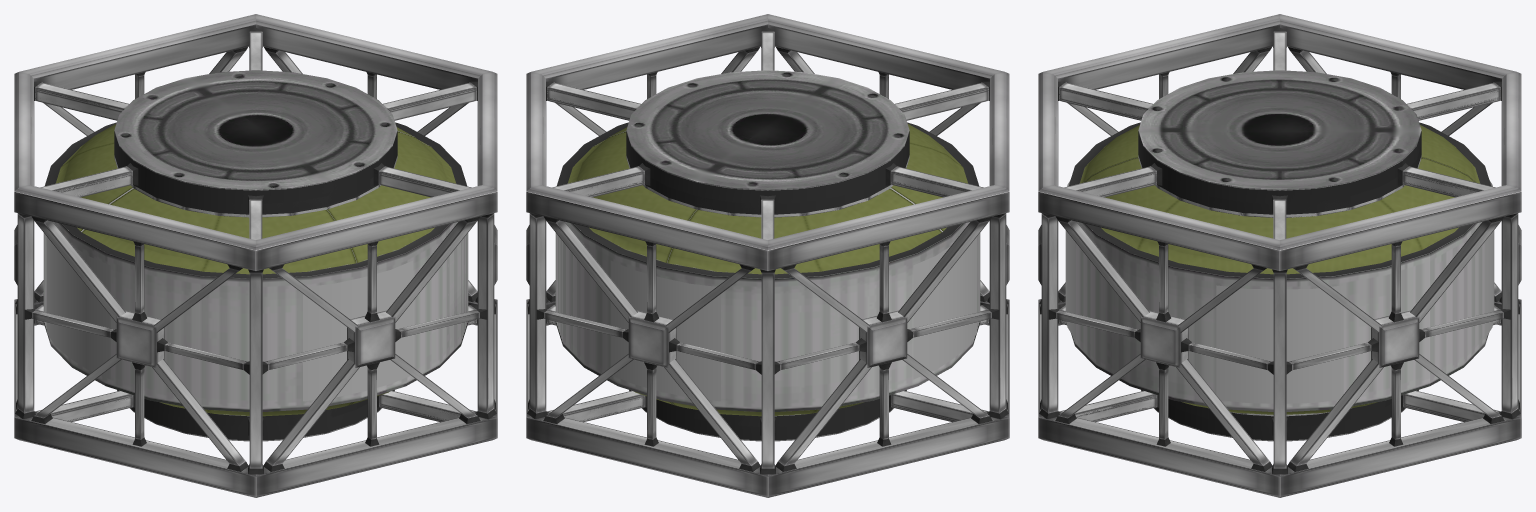
File: HexTrussQuarter.FBX
3 renders of one model, left to right at view 1: azimuth 30°, elevation 25°; view 2: azimuth 150°, elevation 25°; view 3: azimuth 270°, elevation 25°, orthographic.
Visible parts, largest first — view 1: EndBeam011, EngineMount001, TankBody, EndCap001, EndBeam012, decalPanel001, decalPanel004, EndCap021, Pilar272, Pilar275, Pilar015, Pilar264 (+33 smaller); view 2: EndBeam011, EngineMount001, TankBody, EndCap001, EndBeam012, decalPanel003, decalPanel004, Pilar276, Pilar174, Pilar266, Pilar015, EndCap007 (+34 smaller); view 3: EndBeam011, EngineMount001, TankBody, EndCap001, EndBeam012, decalPanel002, Pilar268, Pilar271, EndCap007, Pilar264, Pilar266, Pilar265 (+37 smaller).
Boxes of the visible parts, bbox=[...] form: EndBeam011: bbox=[14, 14, 497, 270]; EngineMount001: bbox=[114, 70, 397, 217]; TankBody: bbox=[43, 222, 468, 411]; EndCap001: bbox=[45, 122, 466, 278]; EndBeam012: bbox=[14, 299, 497, 497]; decalPanel001: bbox=[303, 260, 413, 401]; decalPanel004: bbox=[47, 237, 110, 379]; EndCap021: bbox=[114, 133, 397, 212]; Pilar272: bbox=[263, 216, 479, 471]; Pilar275: bbox=[32, 216, 248, 471]; Pilar015: bbox=[15, 213, 35, 419]; Pilar264: bbox=[476, 213, 496, 419]; EndBeam011: bbox=[526, 14, 1009, 270]; EngineMount001: bbox=[626, 70, 909, 217]; TankBody: bbox=[555, 222, 980, 411]; EndCap001: bbox=[557, 122, 978, 278]; EndBeam012: bbox=[526, 299, 1009, 497]; decalPanel003: bbox=[610, 260, 720, 401]; decalPanel004: bbox=[913, 237, 976, 379]; Pilar276: bbox=[775, 216, 991, 471]; Pilar174: bbox=[544, 216, 760, 471]; Pilar266: bbox=[527, 213, 547, 419]; Pilar015: bbox=[988, 213, 1008, 419]; EndCap007: bbox=[626, 131, 909, 203]; EndBeam011: bbox=[1038, 14, 1521, 270]; EngineMount001: bbox=[1138, 70, 1421, 217]; TankBody: bbox=[1071, 222, 1488, 411]; EndCap001: bbox=[1069, 122, 1490, 278]; EndBeam012: bbox=[1038, 299, 1521, 497]; decalPanel002: bbox=[1216, 285, 1343, 403]; Pilar268: bbox=[1287, 216, 1503, 471]; Pilar271: bbox=[1056, 216, 1272, 471]; EndCap007: bbox=[1138, 131, 1421, 203]; Pilar264: bbox=[1039, 213, 1059, 419]; Pilar266: bbox=[1500, 213, 1520, 419]; Pilar265: bbox=[1272, 269, 1287, 474].
Size of what is drawn, in the model's own units: 2.46 by 1.23 by 2.13.
